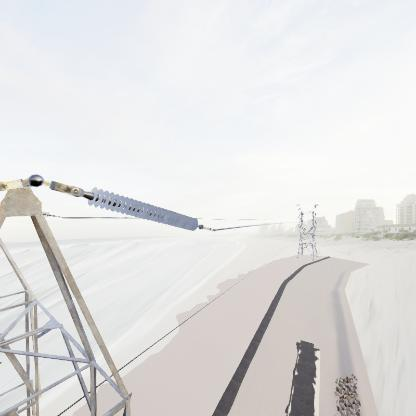insulator: (86, 183, 205, 231)
